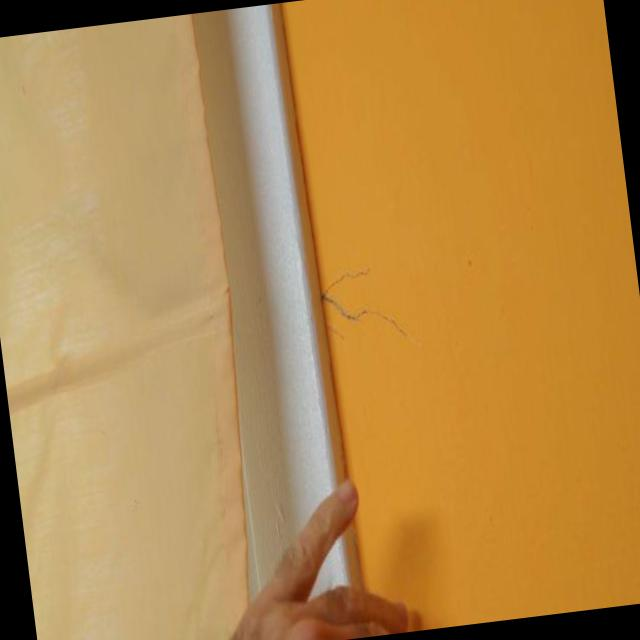crack: (321, 265, 407, 335)
